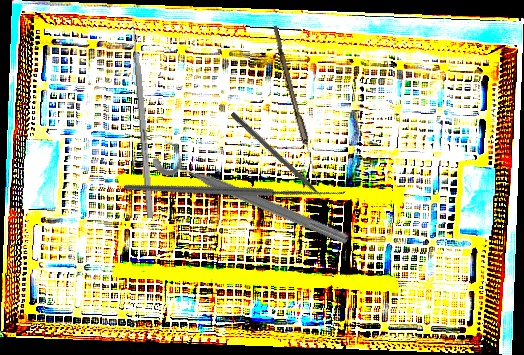Fixation Ring: (149, 136, 357, 251)
Hook Surgical: (123, 82, 351, 290)
Pusher: (229, 111, 334, 210), (128, 11, 155, 218)
Surgical Spoon: (269, 25, 322, 185)
